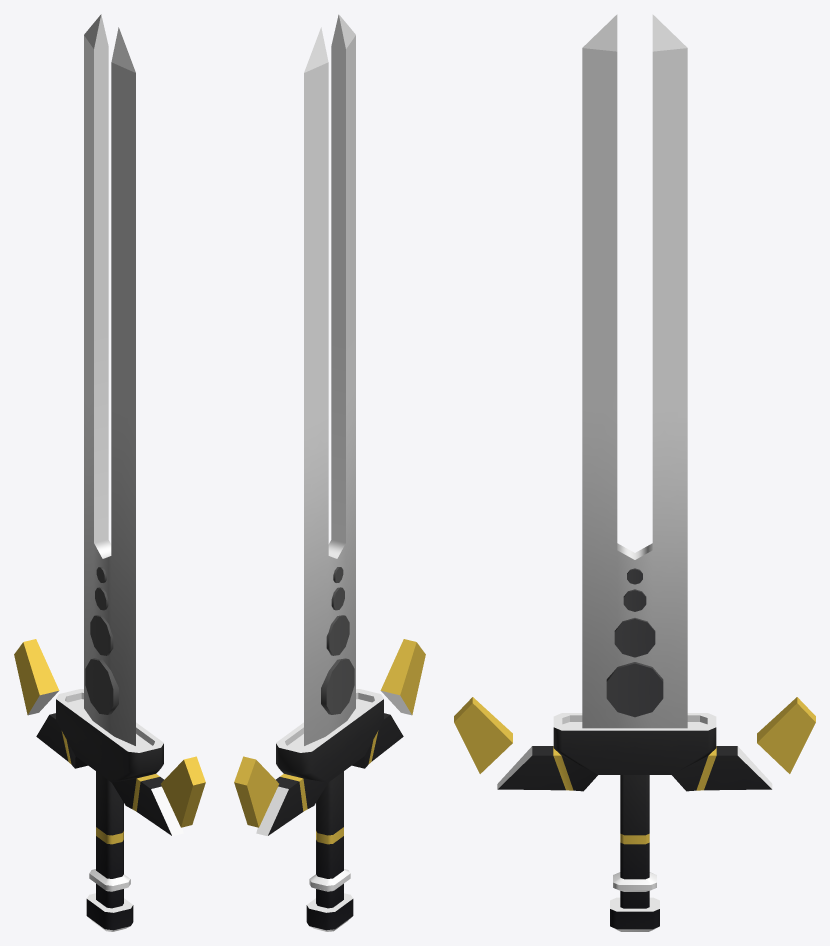
Rendered from Weapon_split.fbx.
3 renders of one model, left to right at view 1: azimuth 30°, elevation 25°; view 2: azimuth 150°, elevation 25°; view 3: azimuth 270°, elevation 25°, orthographic.
Visible parts, largest first — view 1: W_SS_3; view 2: W_SS_3; view 3: W_SS_3.
Part boxes in pixels (left/top/right/bottom): W_SS_3: left=14, top=14, right=205, bottom=931; W_SS_3: left=234, top=14, right=425, bottom=931; W_SS_3: left=454, top=14, right=815, bottom=931.
Size of the model in its own units: 4.98 by 119 by 42.65.
